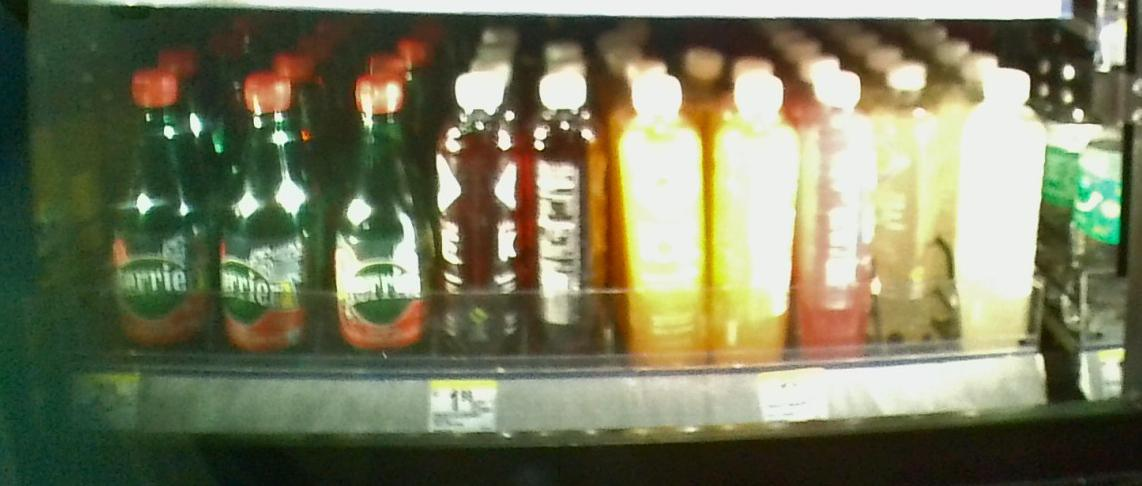bottle: (215, 70, 319, 373), (109, 56, 207, 364), (334, 66, 429, 368), (619, 64, 713, 366), (438, 68, 526, 373), (960, 68, 1046, 348), (531, 75, 612, 366), (719, 67, 798, 361), (803, 71, 880, 364), (884, 51, 951, 357)
